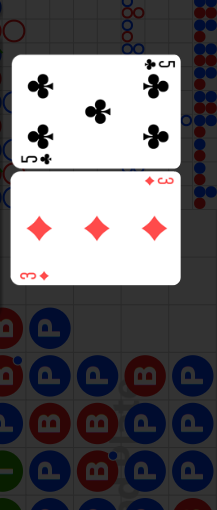3D: (143, 175, 175, 187)
5C: (142, 58, 176, 72)
